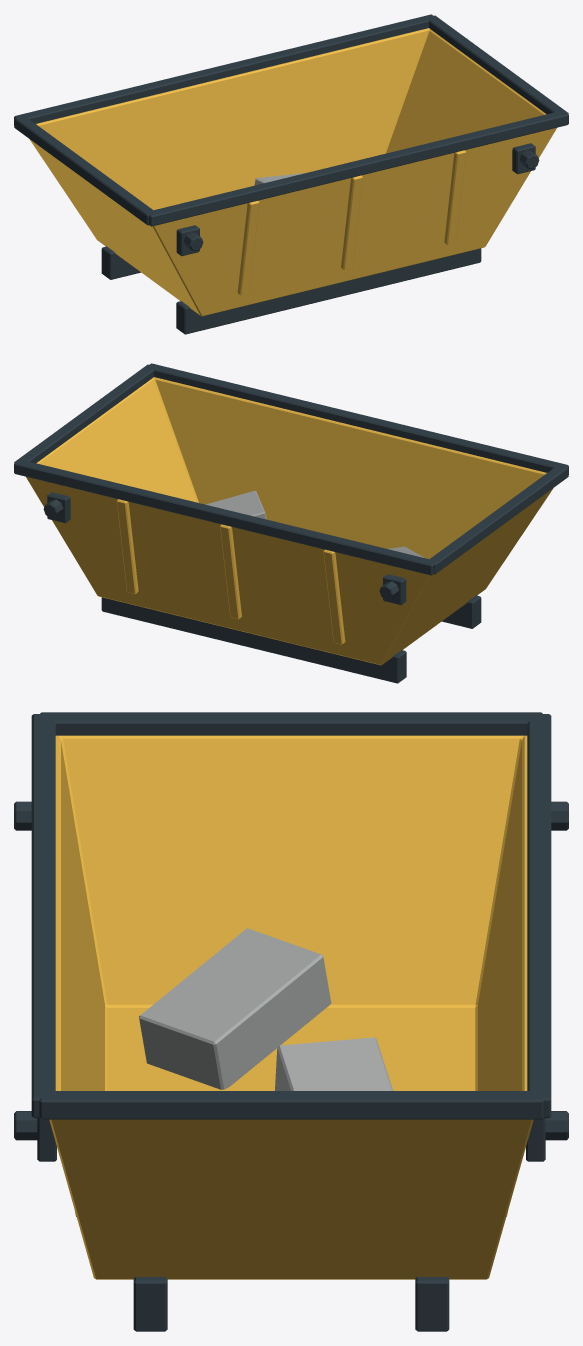
File: b04_compact_open_debris_skip.glb
The picture shows the model from 3 angles, top to bottom: view 1: azimuth 30°, elevation 25°; view 2: azimuth 150°, elevation 25°; view 3: azimuth 270°, elevation 25°; orthographic projection. The views are drawn at different scales.
Visible parts, largest first — view 1: b04_compact_open_debris_skip; view 2: b04_compact_open_debris_skip; view 3: b04_compact_open_debris_skip.
Part boxes in pixels (left/top/right/bottom): b04_compact_open_debris_skip: left=14, top=14, right=568, bottom=334; b04_compact_open_debris_skip: left=14, top=363, right=568, bottom=683; b04_compact_open_debris_skip: left=14, top=712, right=568, bottom=1331.
Bounding box in the file's own units: 3.27 × 1.13 × 1.97.
